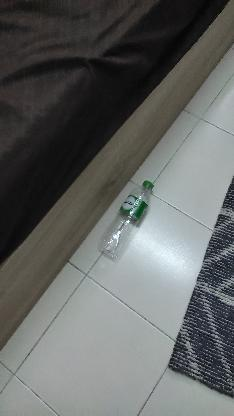Plastic Bottle: (94, 178, 158, 264)
